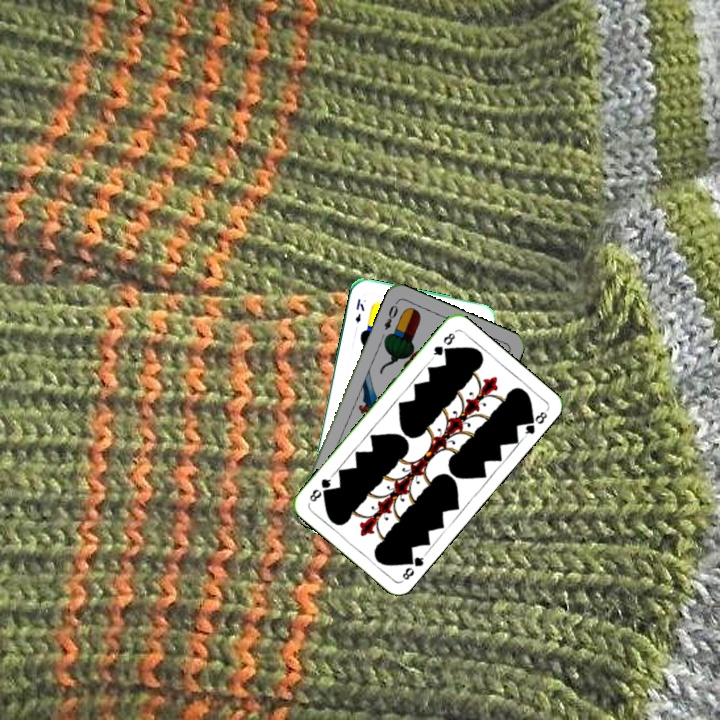EK: (351, 294, 367, 325)
EO: (380, 298, 401, 333)
G8: (398, 550, 429, 584), (428, 329, 458, 361)
